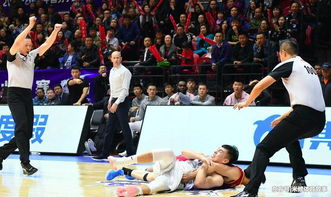10+: (1, 1, 330, 193)
down: (106, 141, 240, 197), (104, 163, 266, 187)
